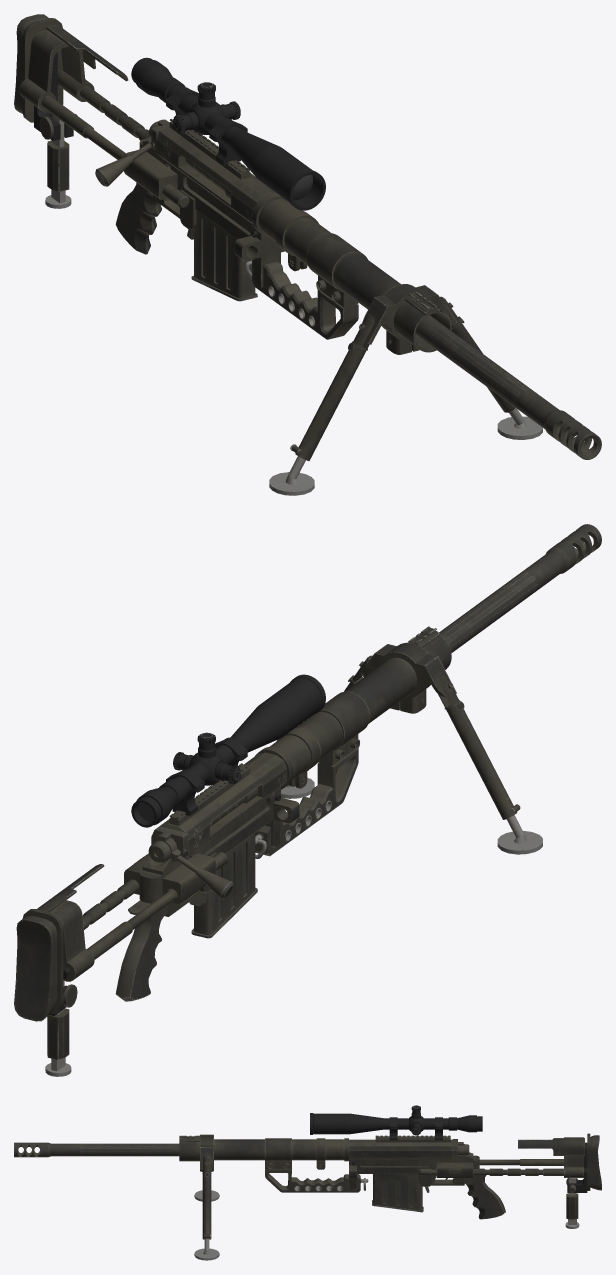
Rendered from DLQ.glb.
3 views of the same model, one above another, from view 1: azimuth 30°, elevation 25°; view 2: azimuth 150°, elevation 25°; view 3: azimuth 270°, elevation 25° (orthographic). The views are drawn at different scales.
Visible parts, largest first — view 1: Receiver_Low, Barrel.001_Low, Butt_Low, Scope_Low, Barrel_Low, Bipod_Low, Magazine_Low, Bipod.001_Low, Handle_Low, Butt.005_Low, Butt.003_Low, ScopePart_Low (+5 smaller); view 2: Receiver_Low, Barrel.001_Low, Scope_Low, Butt.005_Low, Barrel_Low, Bipod_Low, Butt_Low, Magazine_Low, Handle_Low, Bipod.001_Low, Butt.003_Low, ScopePart_Low (+3 smaller); view 3: Receiver_Low, Barrel.001_Low, Scope_Low, Barrel_Low, Butt_Low, Magazine_Low, Bipod_Low, Handle_Low, Butt.001_Low, Butt.005_Low, Receiver.004_Low, Butt.003_Low (+4 smaller).
Part boxes in pixels (bbox=[...]): Receiver_Low: bbox=[124, 126, 358, 339]; Barrel.001_Low: bbox=[252, 193, 451, 352]; Butt_Low: bbox=[19, 30, 189, 208]; Scope_Low: bbox=[131, 57, 325, 210]; Barrel_Low: bbox=[415, 315, 601, 459]; Bipod_Low: bbox=[269, 296, 542, 495]; Magazine_Low: bbox=[191, 210, 257, 301]; Bipod.001_Low: bbox=[362, 284, 456, 354]; Handle_Low: bbox=[115, 182, 161, 254]; Butt.005_Low: bbox=[14, 14, 63, 122]; Butt.003_Low: bbox=[45, 114, 71, 208]; ScopePart_Low: bbox=[166, 87, 247, 165]; Receiver_Low: bbox=[124, 748, 358, 916]; Barrel.001_Low: bbox=[255, 626, 451, 789]; Scope_Low: bbox=[131, 674, 325, 827]; Butt.005_Low: bbox=[14, 909, 63, 1021]; Barrel_Low: bbox=[439, 524, 601, 653]; Bipod_Low: bbox=[281, 655, 542, 854]; Butt_Low: bbox=[50, 852, 227, 981]; Magazine_Low: bbox=[191, 833, 257, 938]; Handle_Low: bbox=[115, 900, 168, 1001]; Bipod.001_Low: bbox=[361, 642, 456, 713]; Butt.003_Low: bbox=[45, 980, 71, 1076]; ScopePart_Low: bbox=[166, 737, 247, 815]; Receiver_Low: bbox=[265, 1139, 479, 1192]; Barrel.001_Low: bbox=[179, 1135, 348, 1169]; Scope_Low: bbox=[310, 1113, 482, 1134]; Barrel_Low: bbox=[14, 1142, 179, 1157]; Butt_Low: bbox=[419, 1137, 583, 1177]; Magazine_Low: bbox=[372, 1174, 423, 1212]; Bipod_Low: bbox=[194, 1156, 219, 1260]; Handle_Low: bbox=[464, 1175, 505, 1219]; Butt.001_Low: bbox=[518, 1138, 584, 1155]; Butt.005_Low: bbox=[587, 1133, 601, 1190]; Receiver.004_Low: bbox=[375, 1135, 450, 1142]; Butt.003_Low: bbox=[565, 1178, 579, 1228].
Size of the model in its own units: 1.25 by 1.01 by 4.52.
3 materials, 3 textured.
